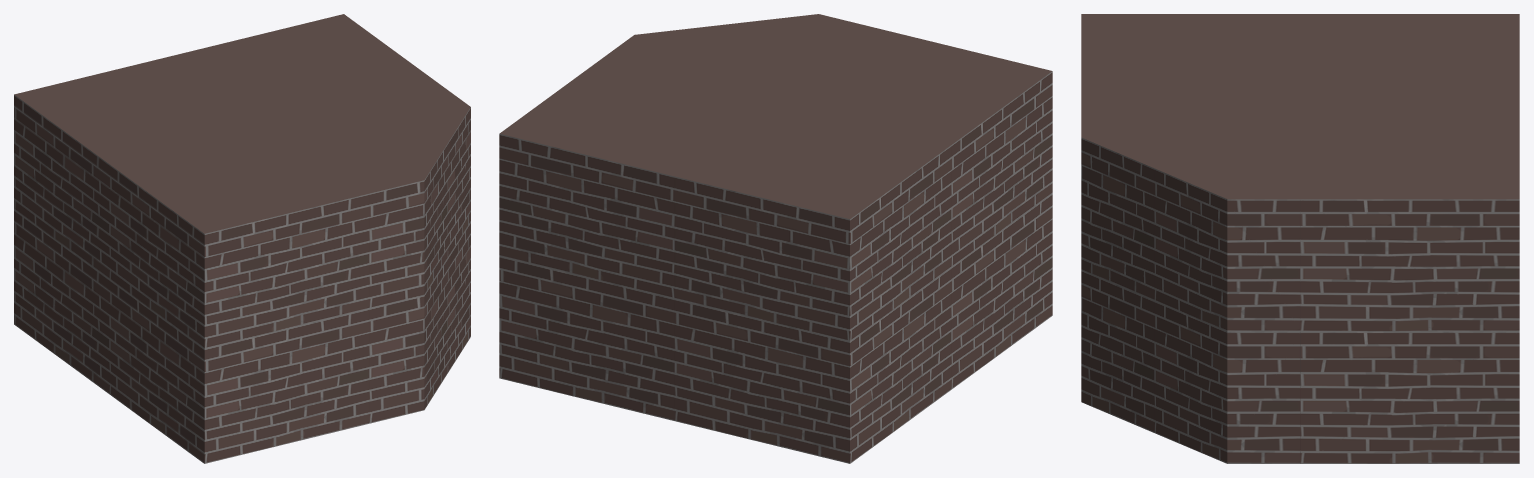
Rendered from Bock_E5.fbx.
3 views of the same model, side by side, from view 1: azimuth 30°, elevation 25°; view 2: azimuth 150°, elevation 25°; view 3: azimuth 270°, elevation 25° (orthographic). The views are drawn at different scales.
Parts seen in each view (by area): view 1: Bock_E5; view 2: Bock_E5; view 3: Bock_E5.
Boxes of the visible parts, box(x1,y1,x2,y2) form: Bock_E5: box(14, 14, 470, 463); Bock_E5: box(499, 14, 1052, 463); Bock_E5: box(1081, 14, 1519, 463).
Bounding box in the file's own units: 600 × 400 × 600.
